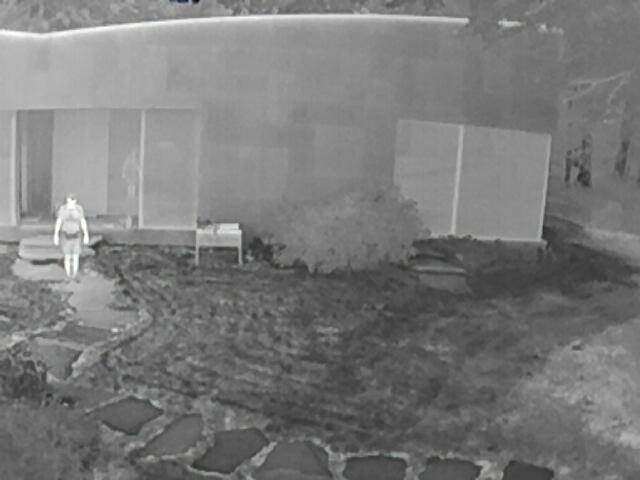person: (52, 193, 90, 281), (118, 144, 141, 208)
